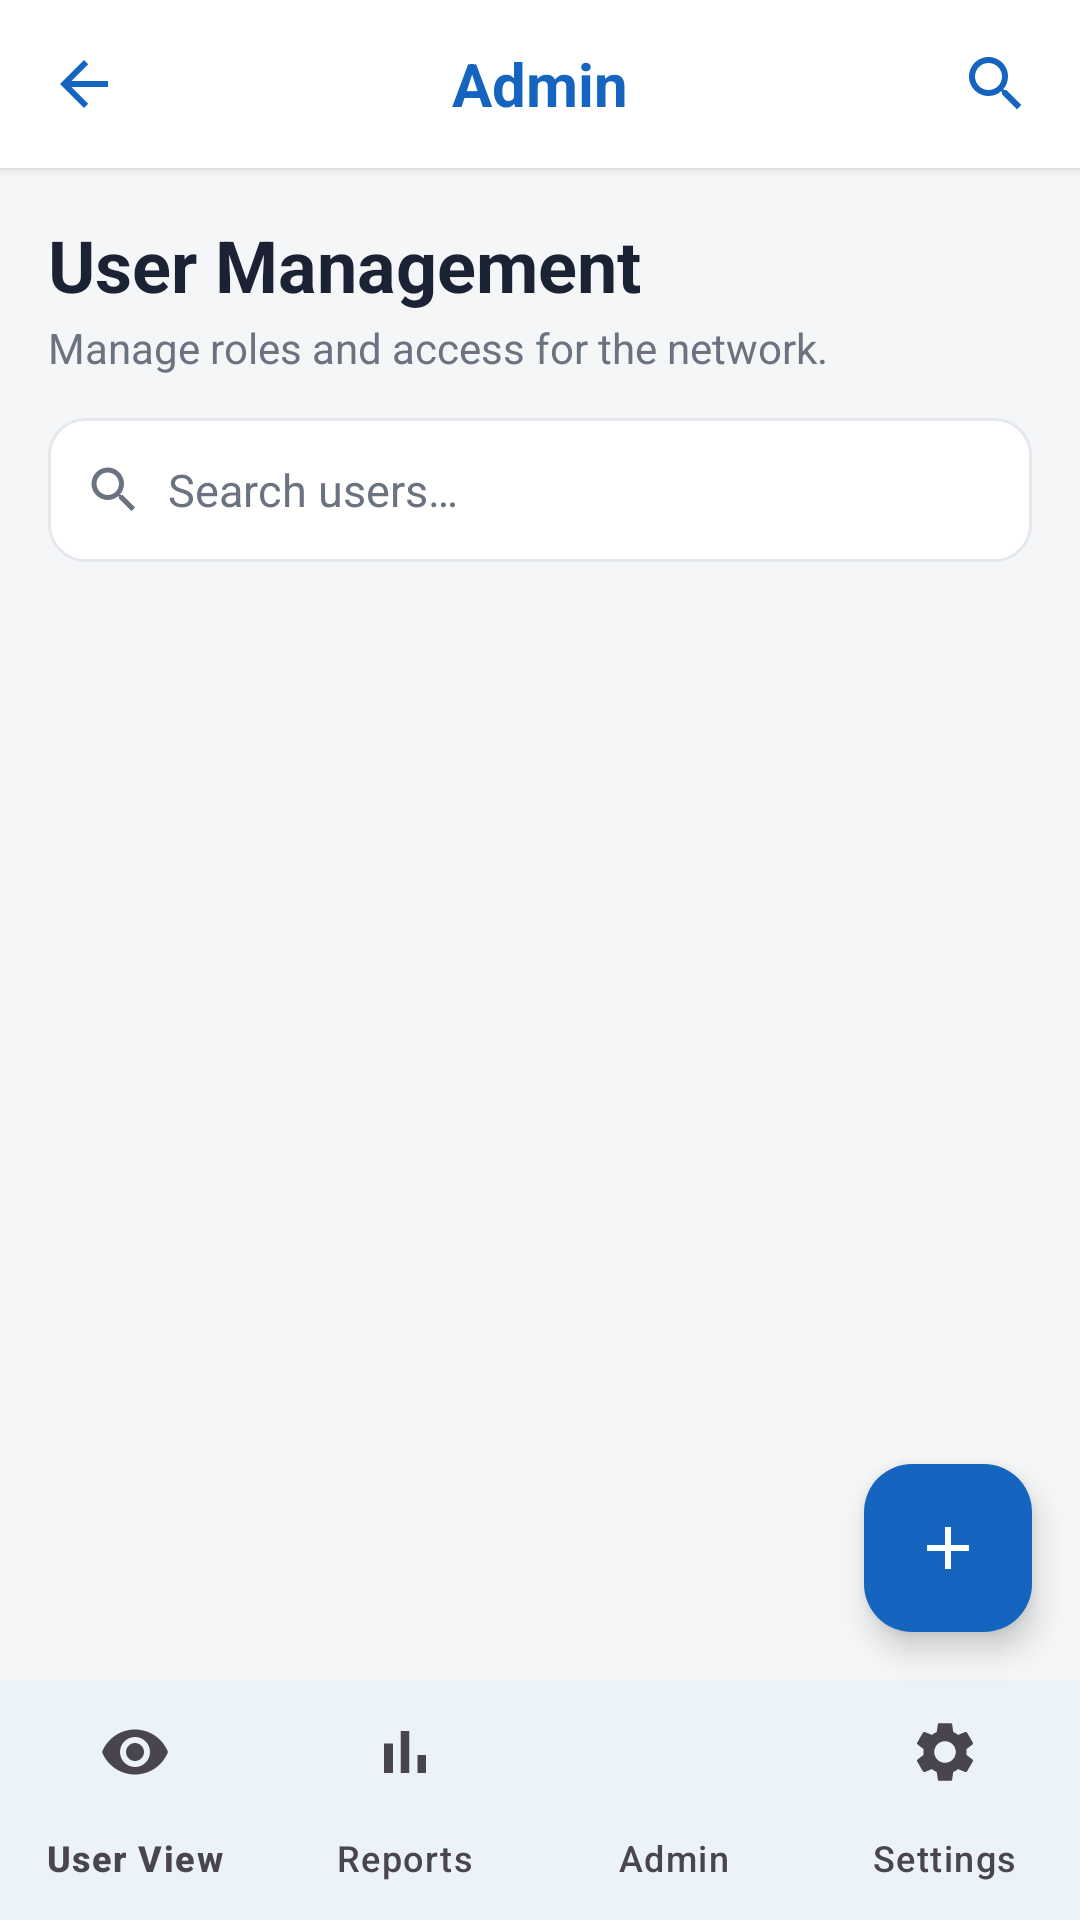

Point at icon controls on the screen. Image size 1080 × 1920, points as (x=x, y=y).
Add: (x=948, y=1548)
Back: (x=84, y=84)
